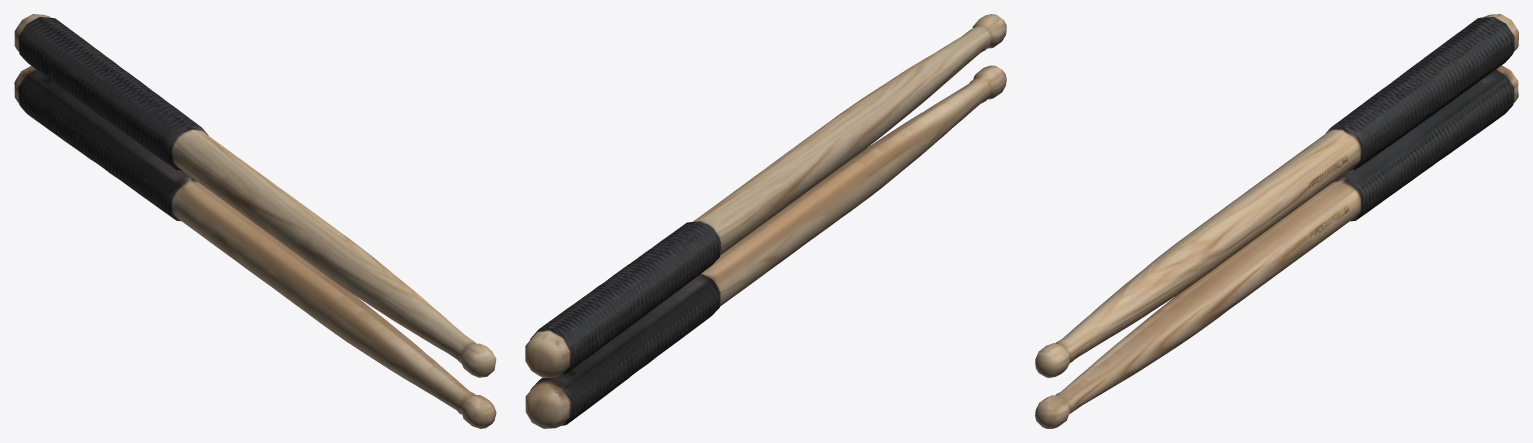
The model's file is Prop_Drumsticks_01.glb.
3 renders of one model, left to right at view 1: azimuth 30°, elevation 25°; view 2: azimuth 150°, elevation 25°; view 3: azimuth 330°, elevation 25°, orthographic.
Parts seen in each view (by area): view 1: mesh_node; view 2: mesh_node; view 3: mesh_node.
Boxes of the visible parts, bbox=[...] form: mesh_node: bbox=[14, 14, 496, 428]; mesh_node: bbox=[525, 14, 1006, 428]; mesh_node: bbox=[1035, 14, 1518, 428].
Size of the model in its own units: 0.1096 by 0.2333 by 1.98.
Materials: 1 (1 with a texture image).
